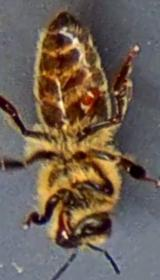varroa_mite: (66, 83, 110, 111)
